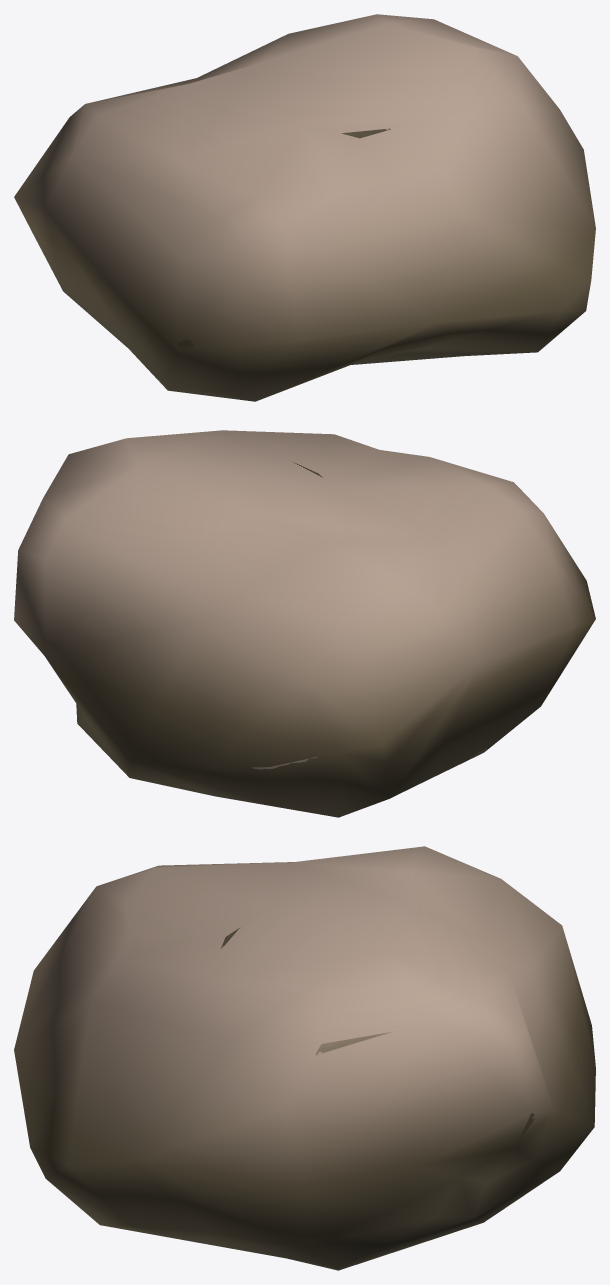
File: Stone4.fbx
3 renders of one model, top to bottom at view 1: azimuth 30°, elevation 25°; view 2: azimuth 150°, elevation 25°; view 3: azimuth 270°, elevation 25°, orthographic. The views are drawn at different scales.
Visible parts, largest first — view 1: Stone4.001; view 2: Stone4.001; view 3: Stone4.001.
Boxes of the visible parts, <box> form: Stone4.001: <box>14,14,595,401</box>; Stone4.001: <box>14,430,595,817</box>; Stone4.001: <box>14,846,595,1270</box>.
Size of the model in its own units: 220 by 126 by 210.
